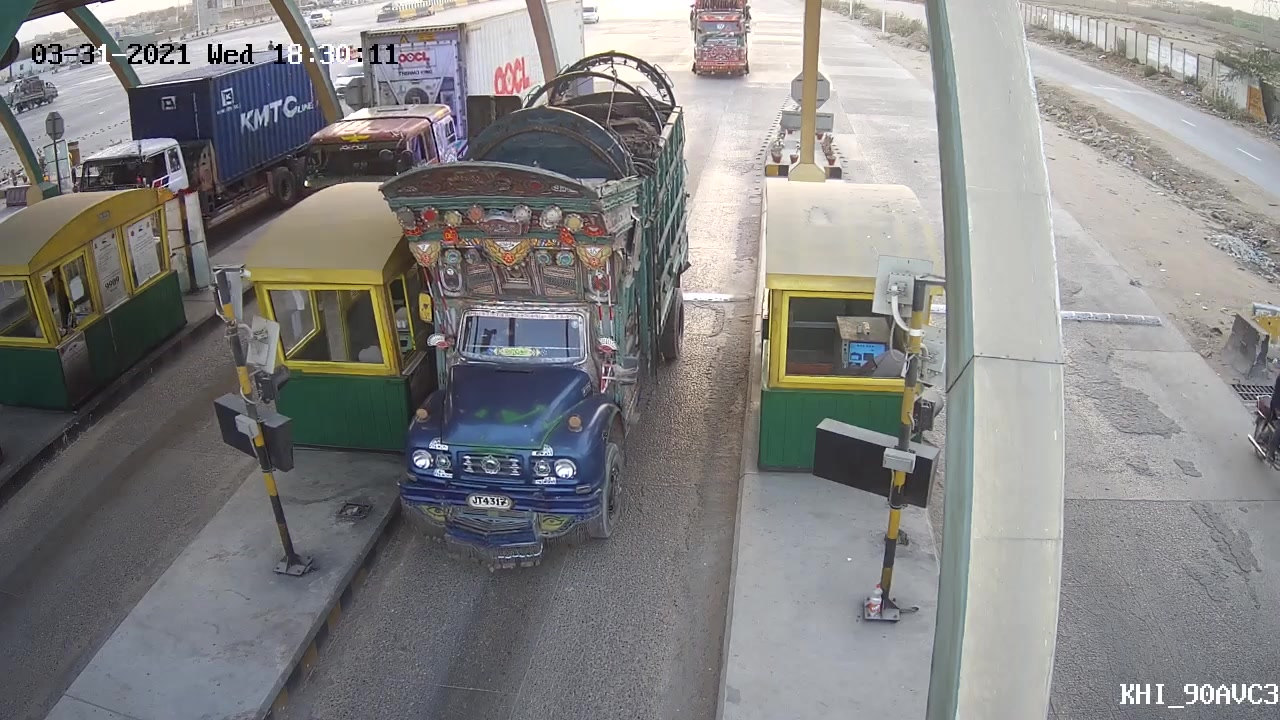F5: (377, 54, 698, 577)
